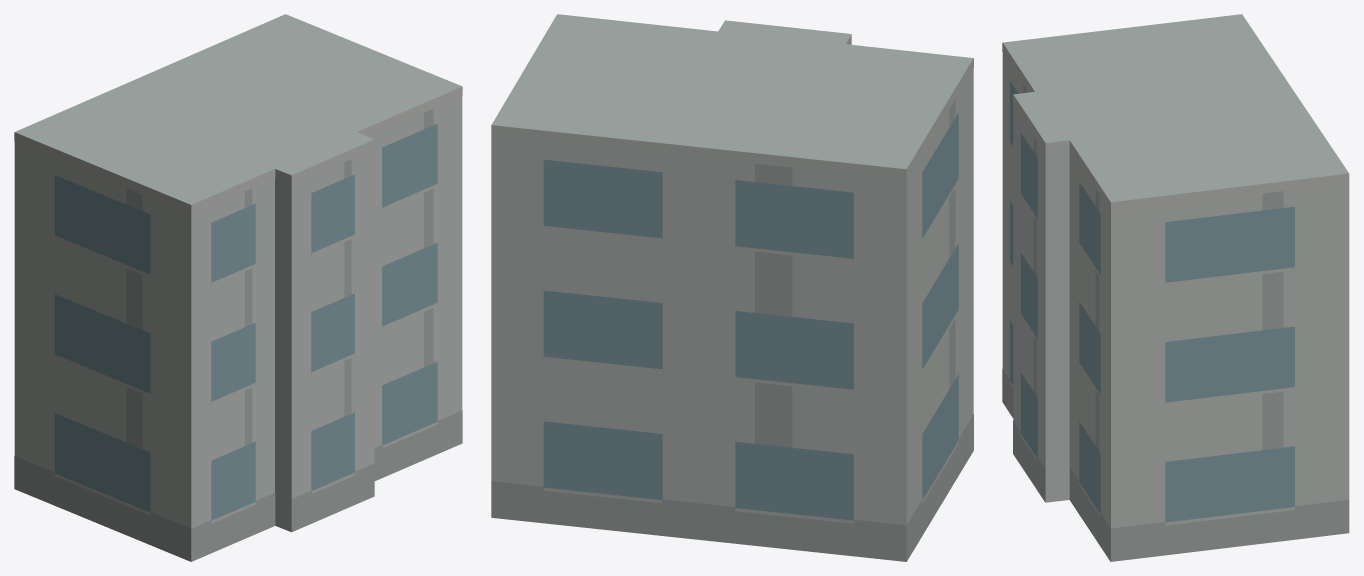
Rendered from residential-0c02aaf5-1739-4d3a-b9fb-01da2c098c64.glb.
The picture shows the model from 3 angles, left to right: view 1: azimuth 30°, elevation 25°; view 2: azimuth 150°, elevation 25°; view 3: azimuth 270°, elevation 25°; orthographic projection. The views are drawn at different scales.
Visible parts, largest first — view 1: residential-0c02aaf5-1739-4d3a-b9fb-01da2c098c64.tmp; view 2: residential-0c02aaf5-1739-4d3a-b9fb-01da2c098c64.tmp; view 3: residential-0c02aaf5-1739-4d3a-b9fb-01da2c098c64.tmp.
Part boxes in pixels (bbox=[...]): residential-0c02aaf5-1739-4d3a-b9fb-01da2c098c64.tmp: bbox=[14, 14, 462, 561]; residential-0c02aaf5-1739-4d3a-b9fb-01da2c098c64.tmp: bbox=[491, 14, 973, 561]; residential-0c02aaf5-1739-4d3a-b9fb-01da2c098c64.tmp: bbox=[1002, 14, 1349, 561].
Size of the model in its own units: 10.28 by 9.15 by 8.
